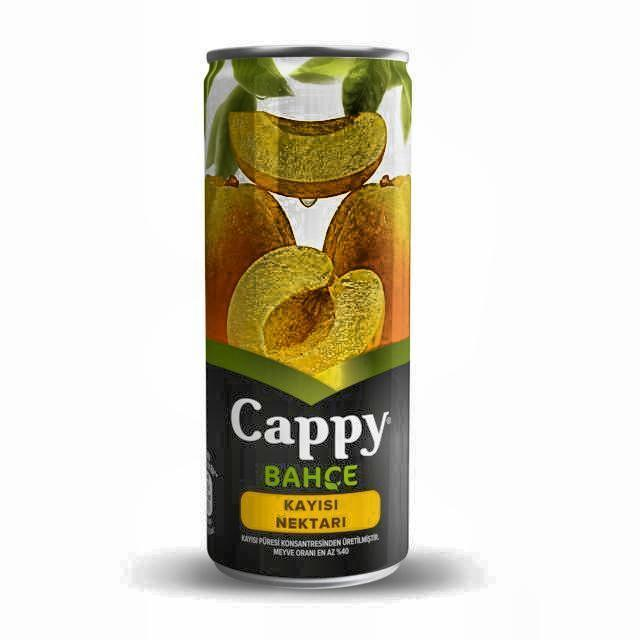metal: (203, 42, 413, 585)
